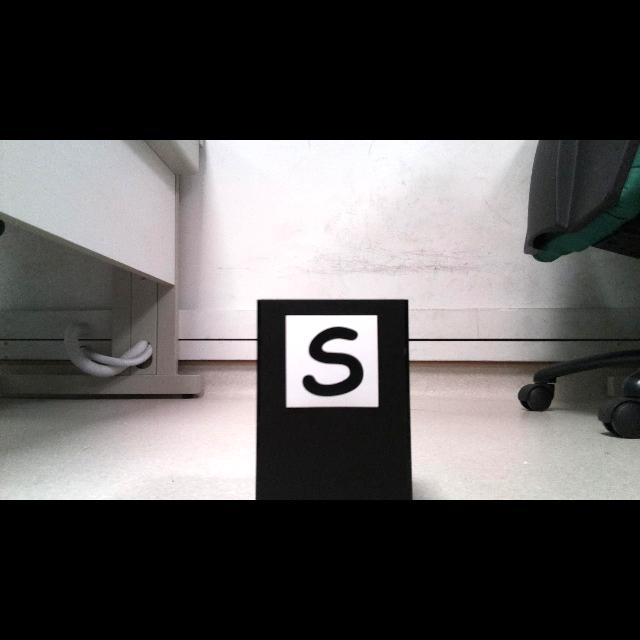S: (302, 326, 360, 395)
